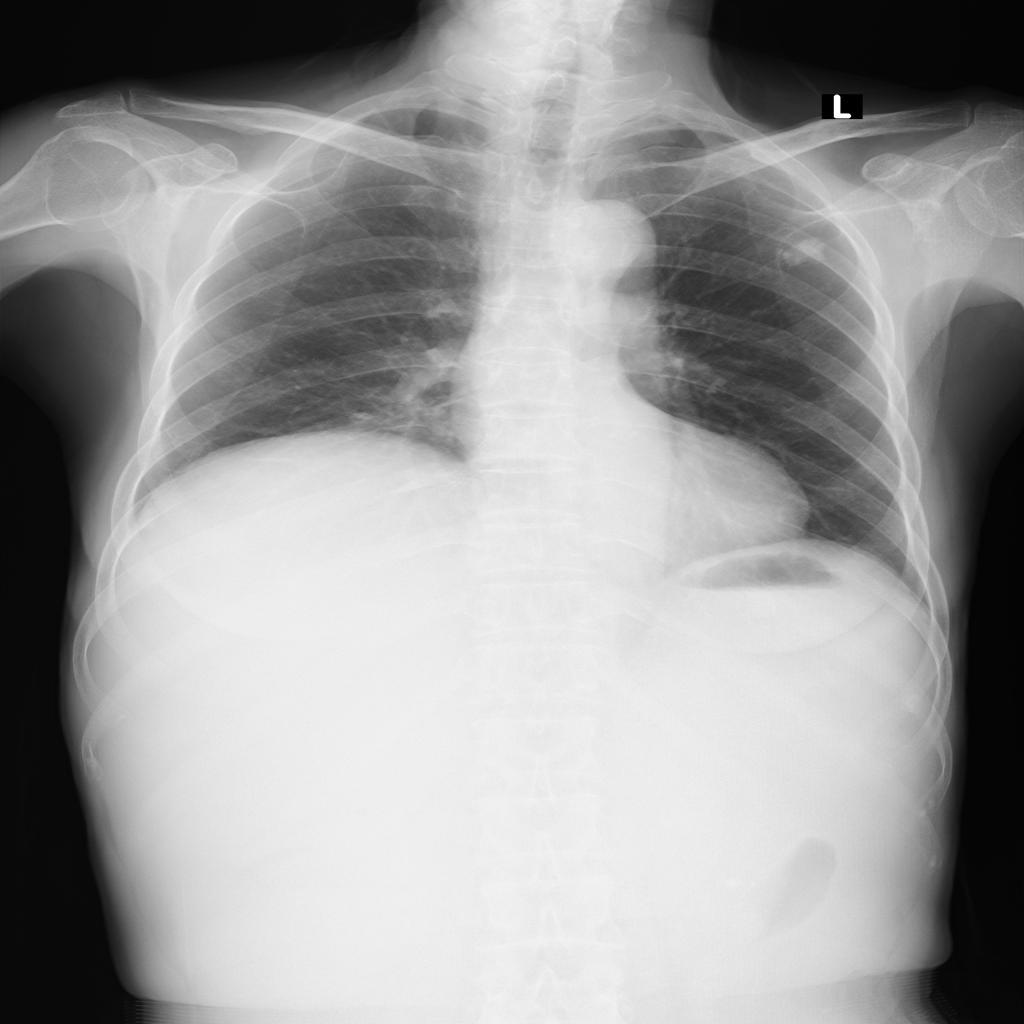Nodule: (782, 237, 829, 268)
